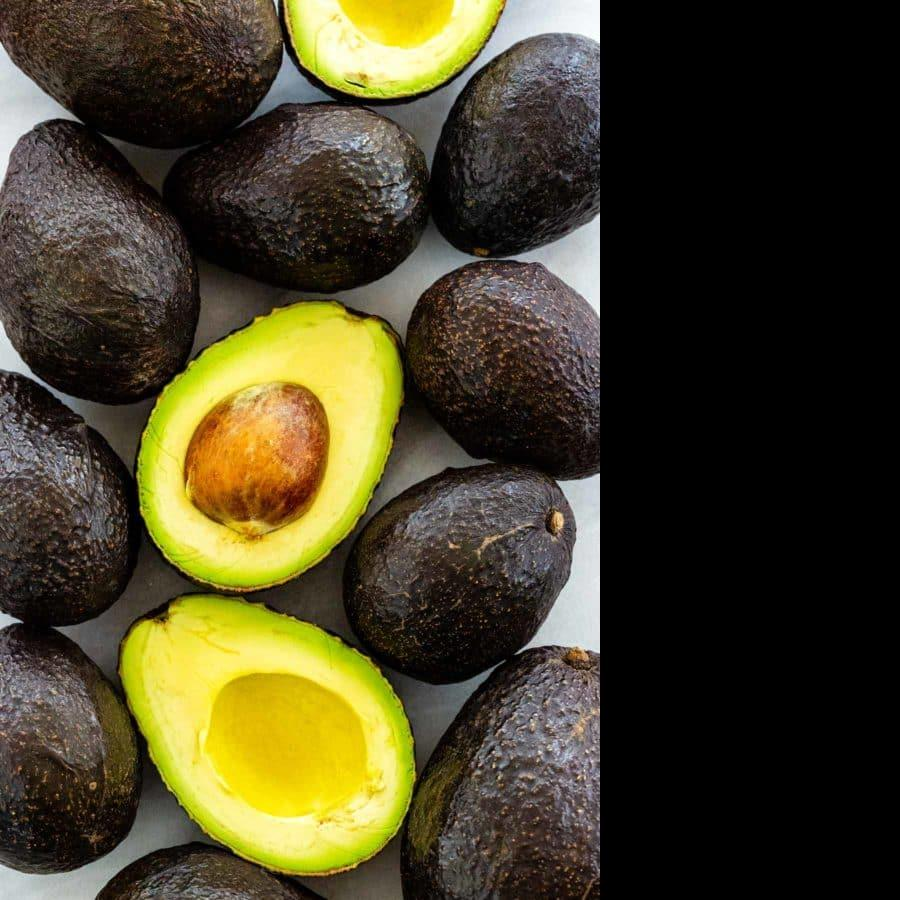ripe: (1, 118, 202, 406), (341, 463, 577, 685), (167, 102, 433, 294), (399, 646, 600, 900), (404, 260, 599, 480), (1, 1, 283, 149), (432, 34, 600, 259), (1, 371, 139, 629), (2, 623, 141, 875)
